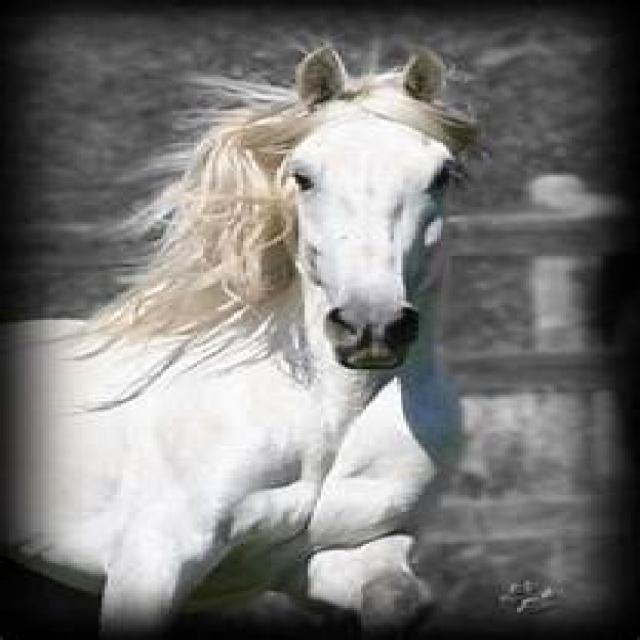horse: (0, 45, 477, 640)
